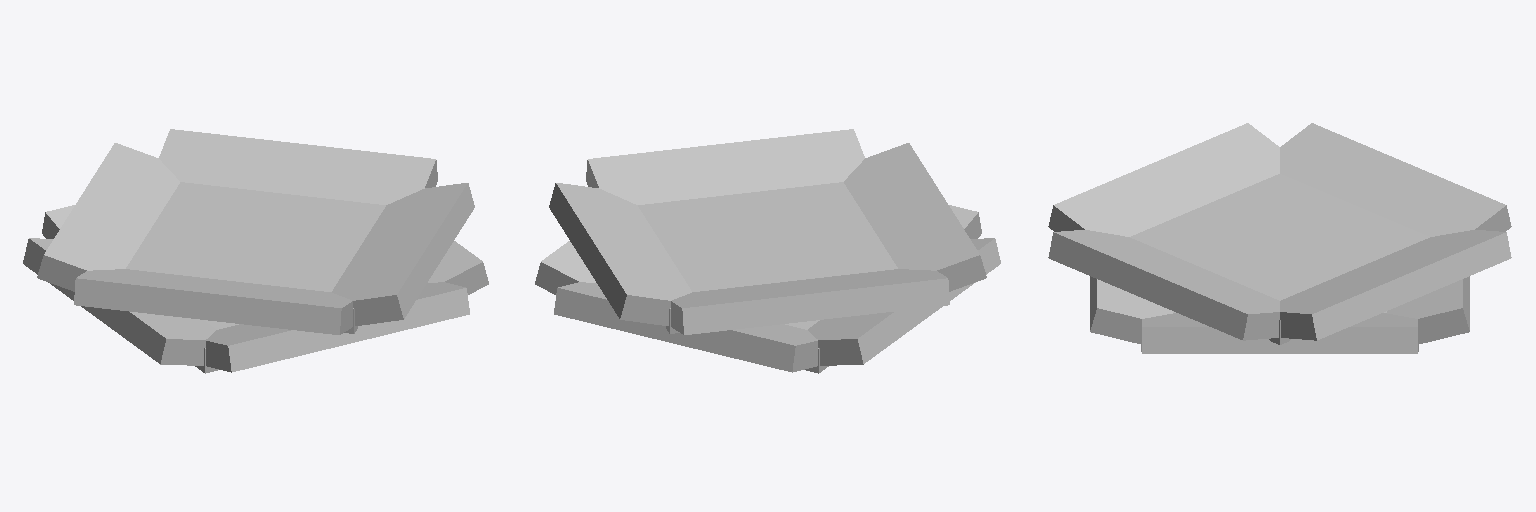
File: teaplate_2.obj
3 views of the same model, side by side, from view 1: azimuth 30°, elevation 25°; view 2: azimuth 150°, elevation 25°; view 3: azimuth 270°, elevation 25° (orthographic).
Parts seen in each view (by area): view 1: bottom_2, east_rim_2, west_rim_2, south_rim_2, north_rim_2, south_rim_1, west_rim_1, east_rim_1, north_rim_1; view 2: bottom_2, south_rim_2, north_rim_2, east_rim_2, west_rim_2, north_rim_1, west_rim_1, east_rim_1, south_rim_1; view 3: bottom_2, west_rim_2, north_rim_2, east_rim_2, south_rim_2, east_rim_1, north_rim_1, south_rim_1.
Boxes of the visible parts, <box> form: bottom_2: <box>126,182,385,333</box>; east_rim_2: <box>159,129,437,204</box>; west_rim_2: <box>74,269,352,334</box>; south_rim_2: <box>332,183,474,325</box>; north_rim_2: <box>37,143,179,291</box>; south_rim_1: <box>206,282,469,372</box>; west_rim_1: <box>23,238,215,365</box>; east_rim_1: <box>428,241,488,294</box>; north_rim_1: <box>42,205,74,238</box>; bottom_2: <box>638,182,897,333</box>; south_rim_2: <box>586,129,864,204</box>; north_rim_2: <box>671,269,949,334</box>; east_rim_2: <box>549,183,691,325</box>; west_rim_2: <box>844,143,986,291</box>; north_rim_1: <box>554,282,817,372</box>; west_rim_1: <box>808,238,1000,365</box>; east_rim_1: <box>535,241,595,294</box>; south_rim_1: <box>949,205,981,238</box>; bottom_2: <box>1130,174,1429,344</box>; west_rim_2: <box>1048,123,1279,236</box>; north_rim_2: <box>1280,123,1511,236</box>; east_rim_2: <box>1280,230,1511,340</box>; south_rim_2: <box>1048,230,1279,340</box>; east_rim_1: <box>1142,313,1417,353</box>; north_rim_1: <box>1387,276,1469,343</box>; south_rim_1: <box>1090,276,1172,343</box>.
Bounding box in the file's own units: 1.05 × 0.187 × 1.05.